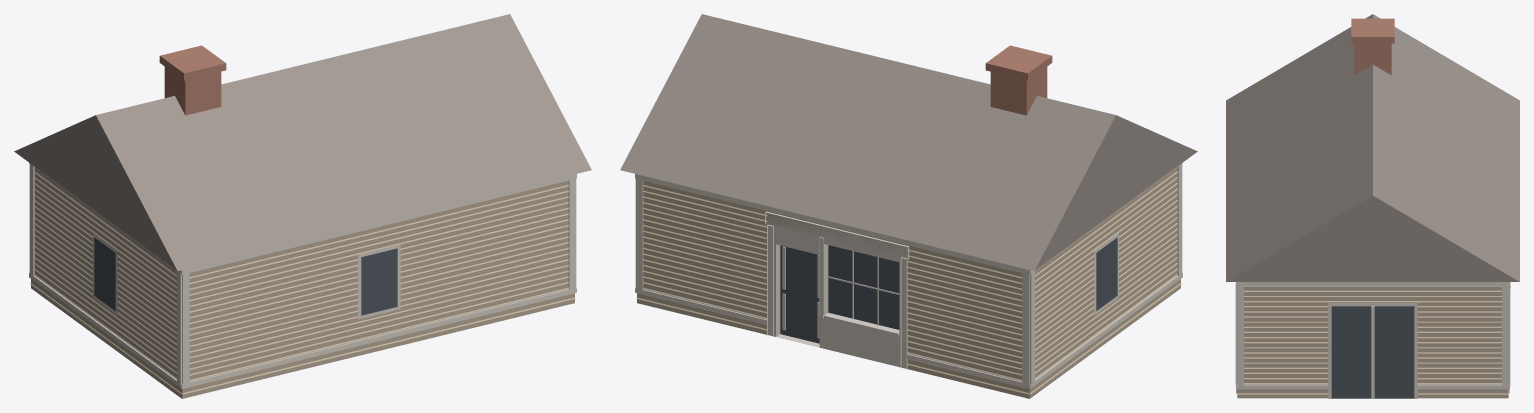
The model's file is frederick_thomas_shop__frame_1835.glb.
3 views of the same model, side by side, from view 1: azimuth 30°, elevation 25°; view 2: azimuth 150°, elevation 25°; view 3: azimuth 270°, elevation 25° (orthographic). The views are drawn at different scales.
Parts seen in each view (by area): view 1: frederick_thomas_shop__frame_1835; view 2: frederick_thomas_shop__frame_1835; view 3: frederick_thomas_shop__frame_1835.
Boxes of the visible parts, bbox=[...] form: frederick_thomas_shop__frame_1835: bbox=[14, 14, 591, 398]; frederick_thomas_shop__frame_1835: bbox=[620, 14, 1197, 398]; frederick_thomas_shop__frame_1835: bbox=[1226, 14, 1519, 398].
Bounding box in the file's own units: 9.64 × 5.85 × 6.6.
